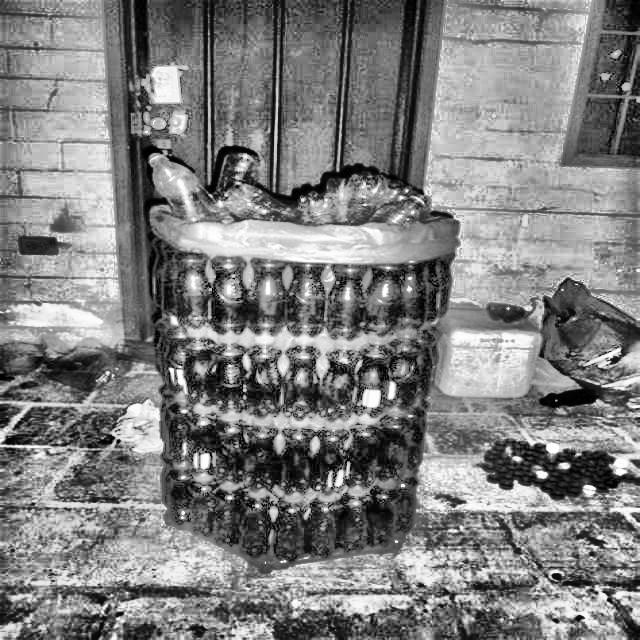Dustbin: (122, 130, 474, 586)
